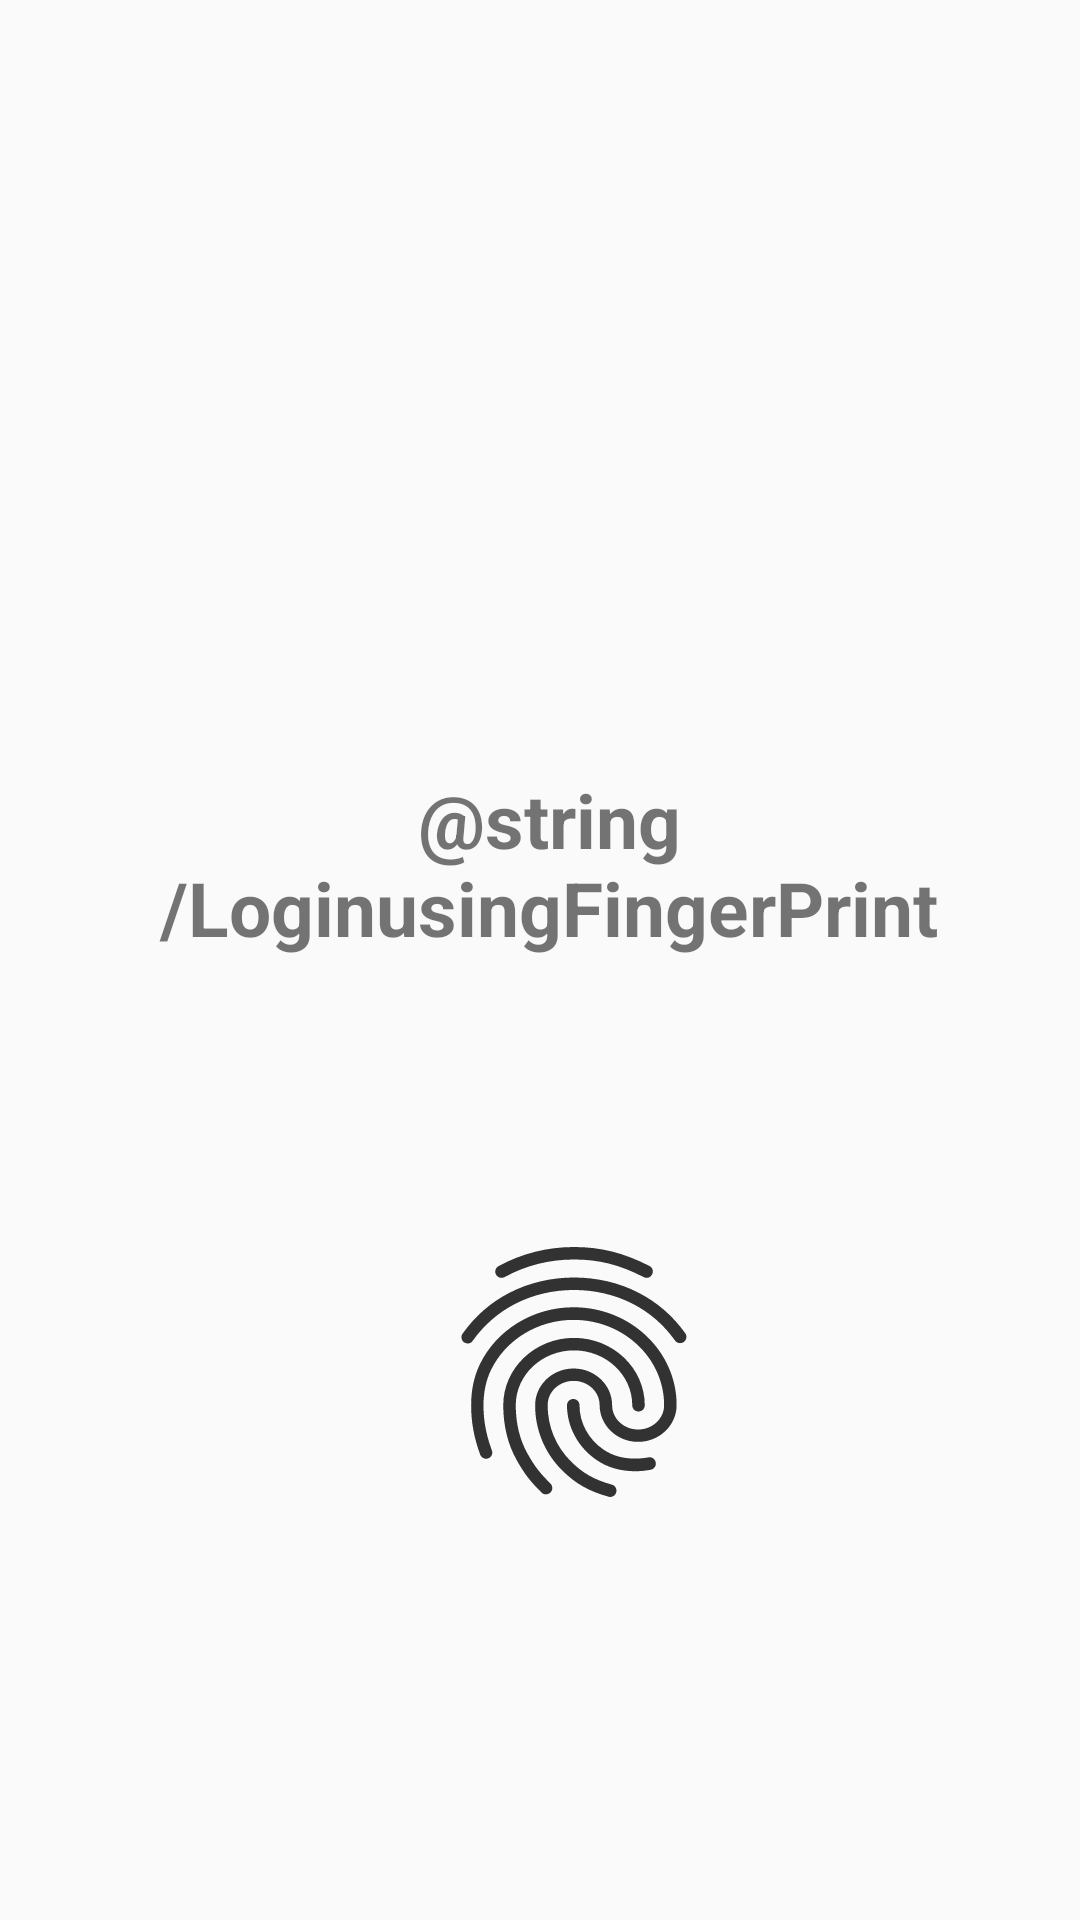

Screen size 1080x1920. Icon name, then its box in pixels as (x1=x1, y1=y1, x2=x2, y2=y2):
fingerprint: (x1=461, y1=1247, x2=687, y2=1497)
